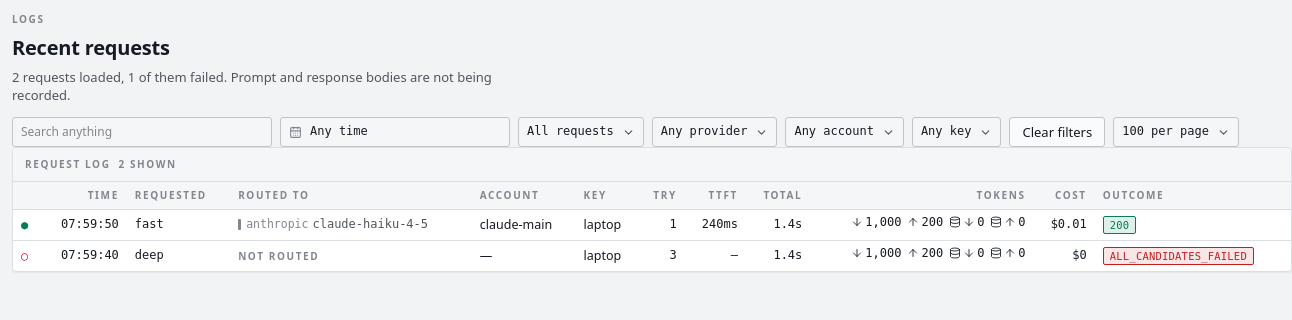
it: LogsBoard › clearing the filters returns to the unfiltered head
Expected: the text "fast" is shown, [135, 217, 164, 231]
Click the dropdown named "Show which requests": (581, 132) [518, 117, 644, 147]
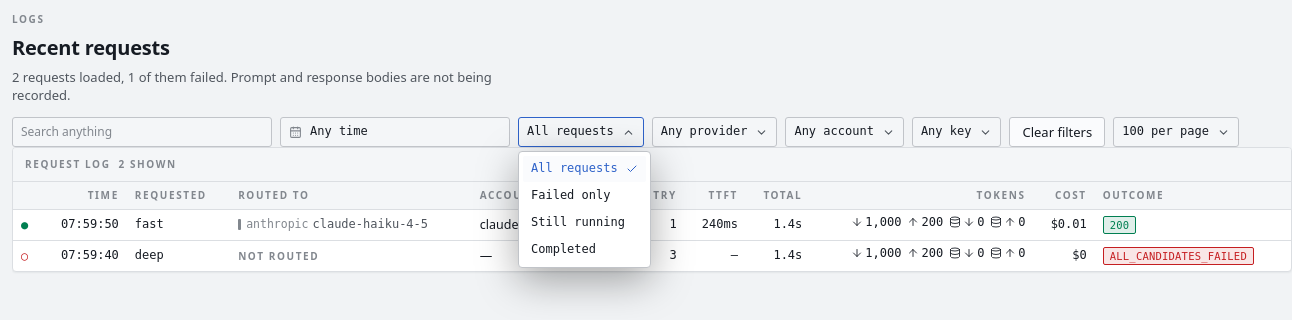
Click the option "Failed only": (571, 195) [531, 188, 610, 202]
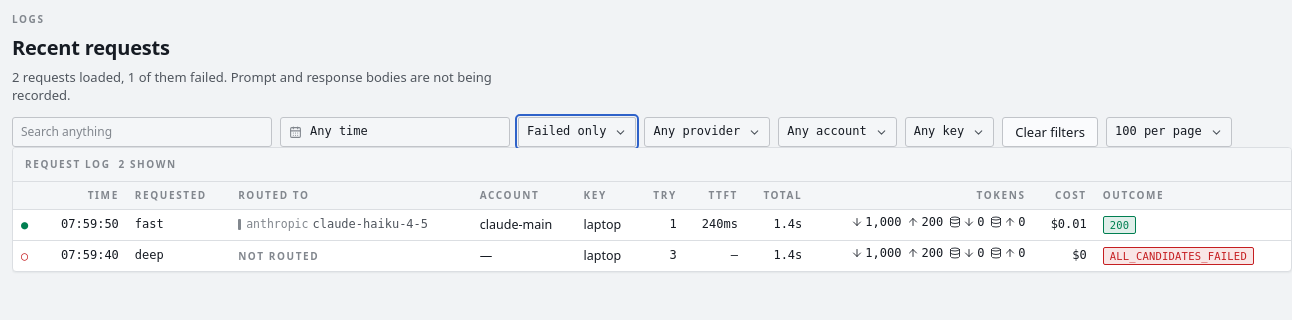
In the field named "Models and error codes": (142, 132) [12, 117, 272, 147], type "requested:fast"
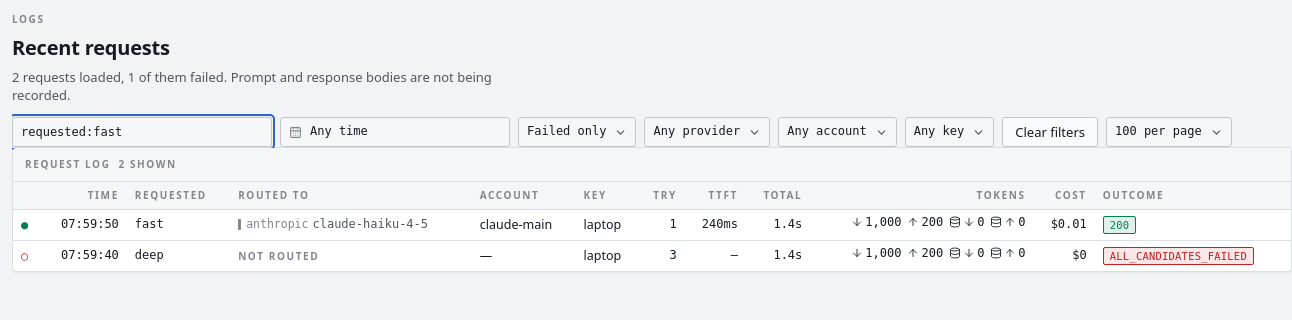
Click the button "Clear filters": (1050, 132) [1002, 117, 1098, 147]
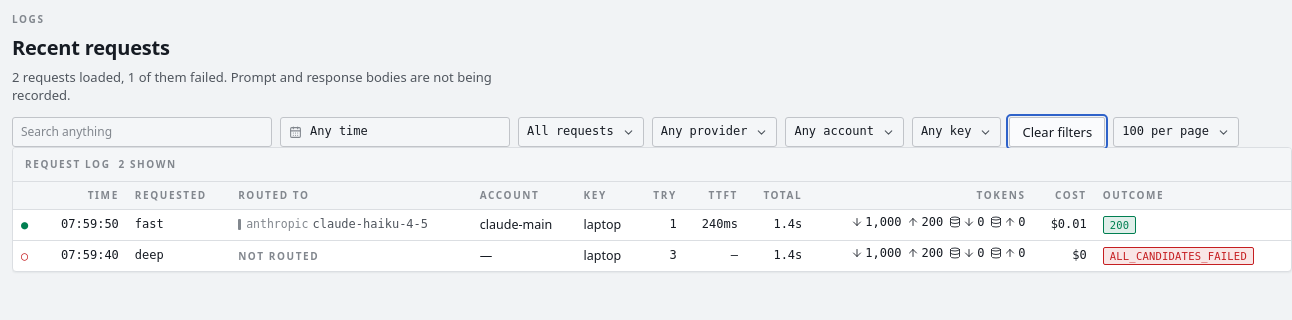
Result: the field named "Models and error codes" is empty at [12, 117, 272, 147]
